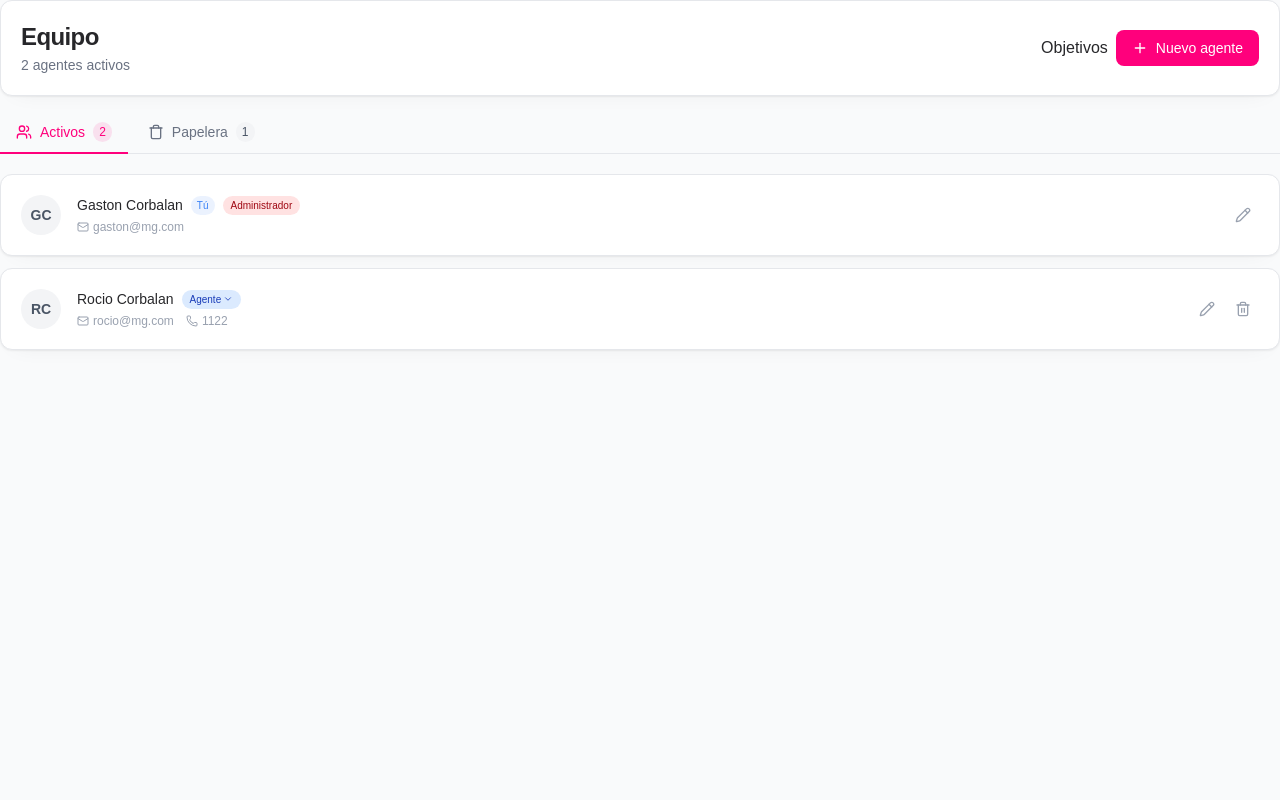
Pantalla de agentes › cancelar la confirmación no elimina nada
expect the text "Rocio Corbalan" is shown: met, box top-left (77, 289), bottom-right (174, 309)
Step 1. Click the button named "Eliminar Rocio Corbalan" → (1243, 309), box top-left (1227, 293), bottom-right (1259, 325)
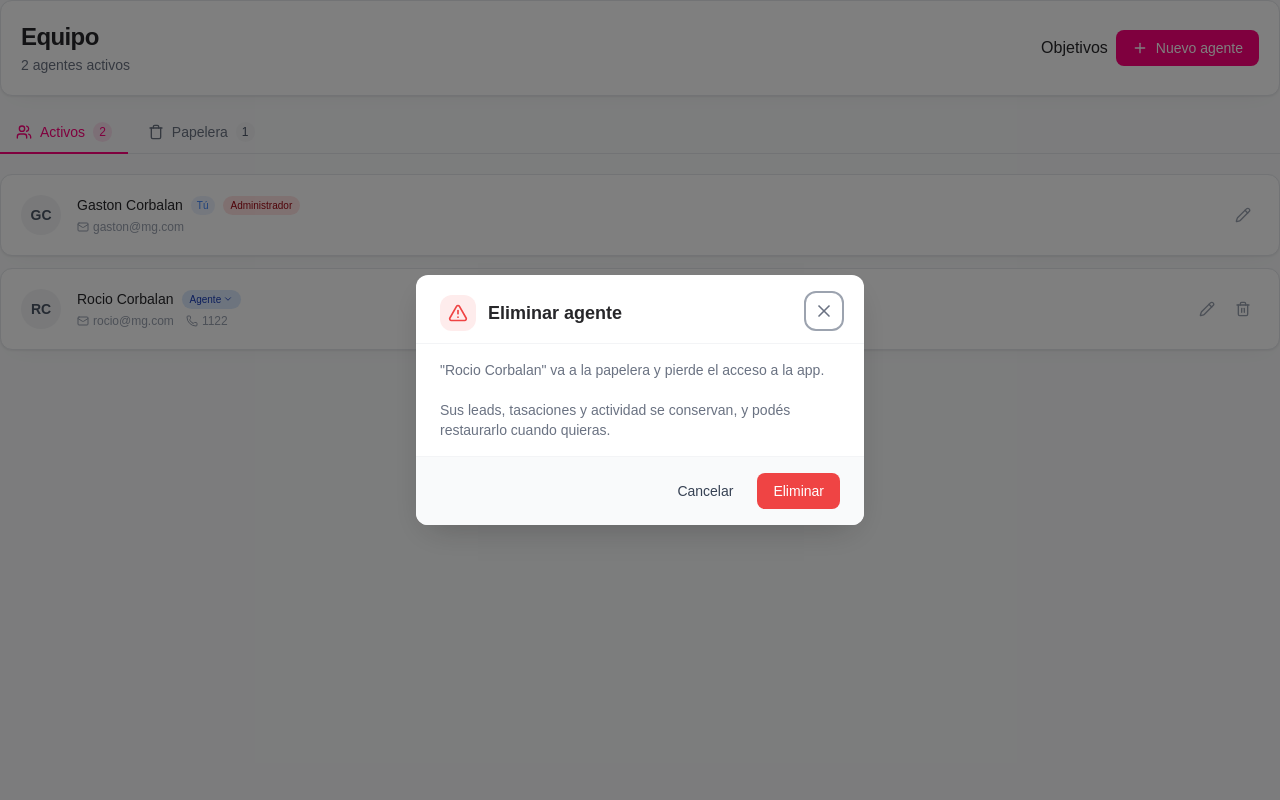
Step 2. Click the button "Cancelar" → (705, 491), box top-left (661, 473), bottom-right (749, 509)
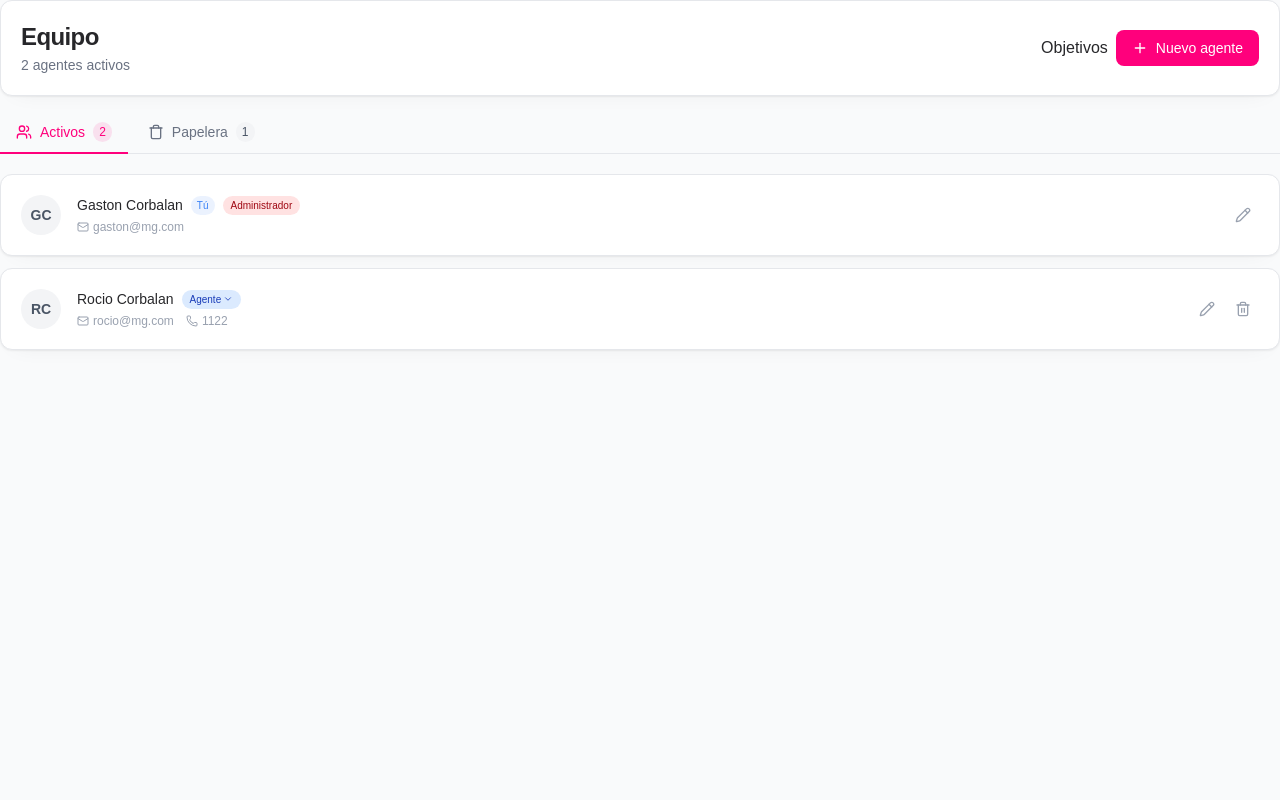
expect the heading "Eliminar agente" is gone: met
